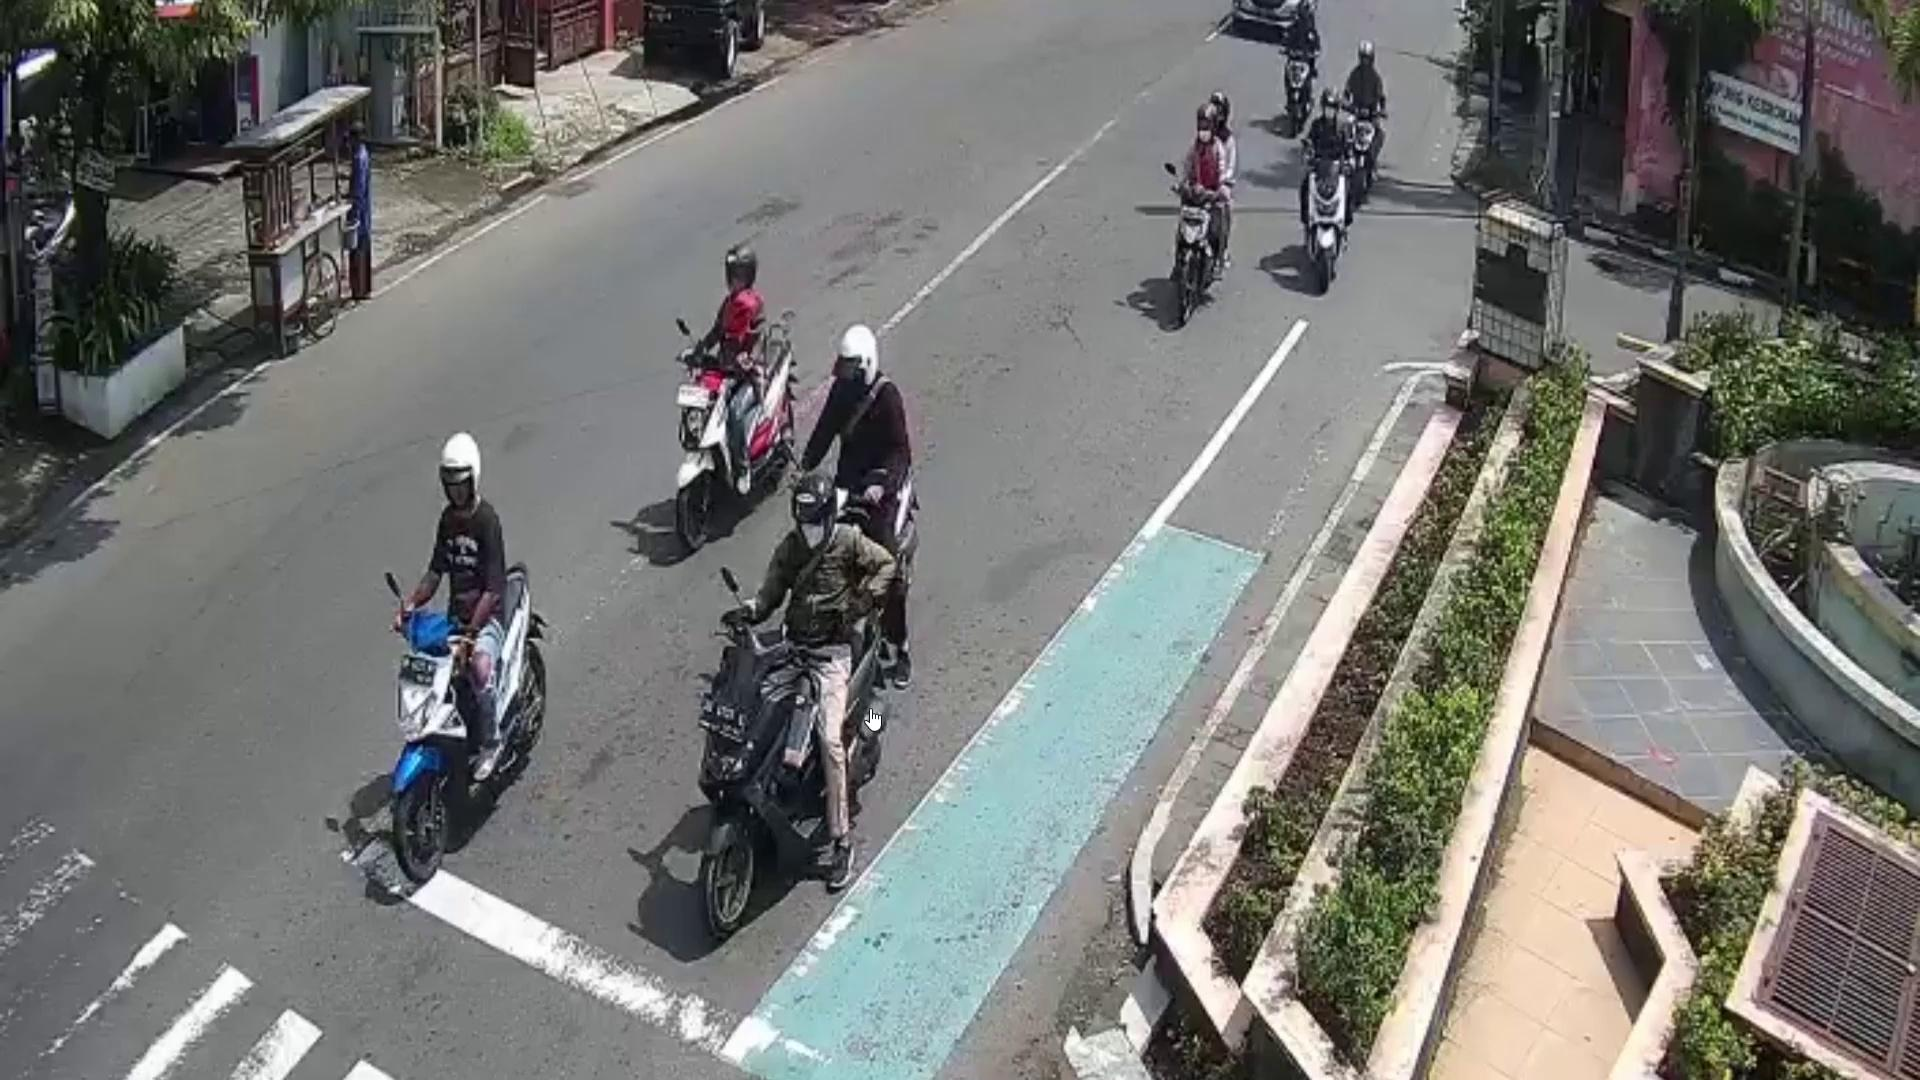motorbike: (699, 607, 885, 943), (389, 560, 543, 890), (669, 322, 794, 558), (1304, 156, 1350, 298), (1174, 178, 1213, 330)
